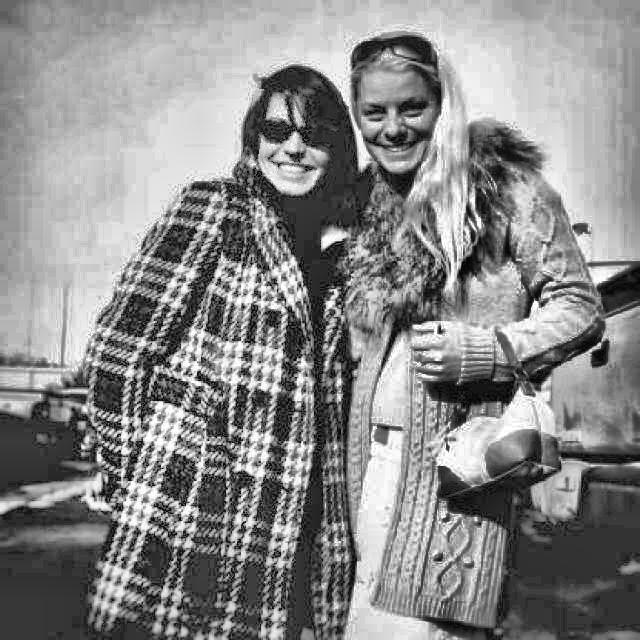happy: (241, 92, 345, 200), (353, 72, 449, 170)
